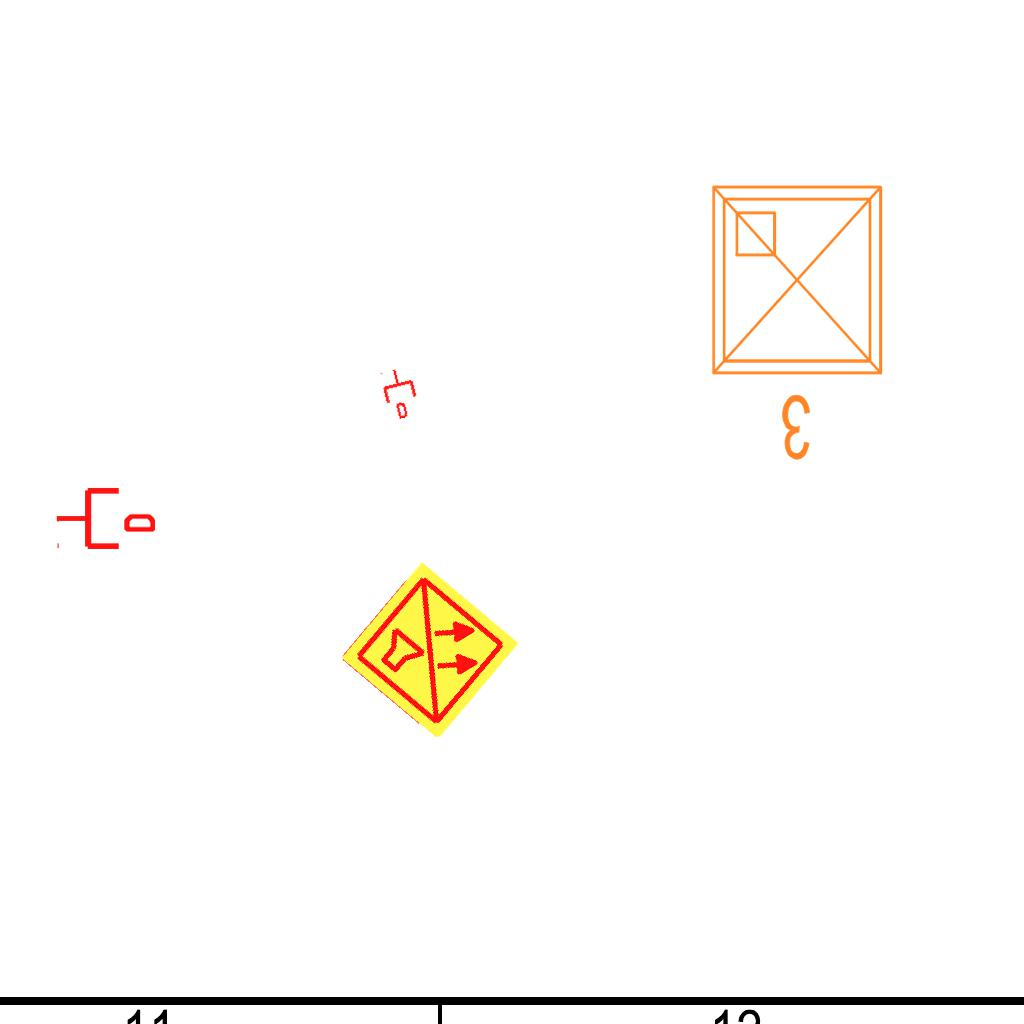Datenanschluss_einfach: (55, 484, 155, 553), (377, 364, 423, 422)
Einbaudownlights_LED_Konferenzraeume: (697, 171, 905, 471)
OKW_Multisensormelder_(Kombination_optischer_Rauch-Kahlenmonoxid_Waerme-Melder): (337, 558, 523, 744)
